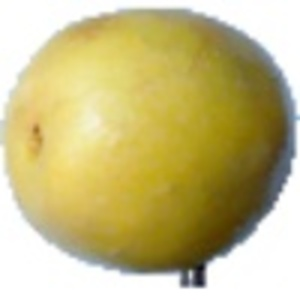maracujá: (1, 6, 300, 289)
